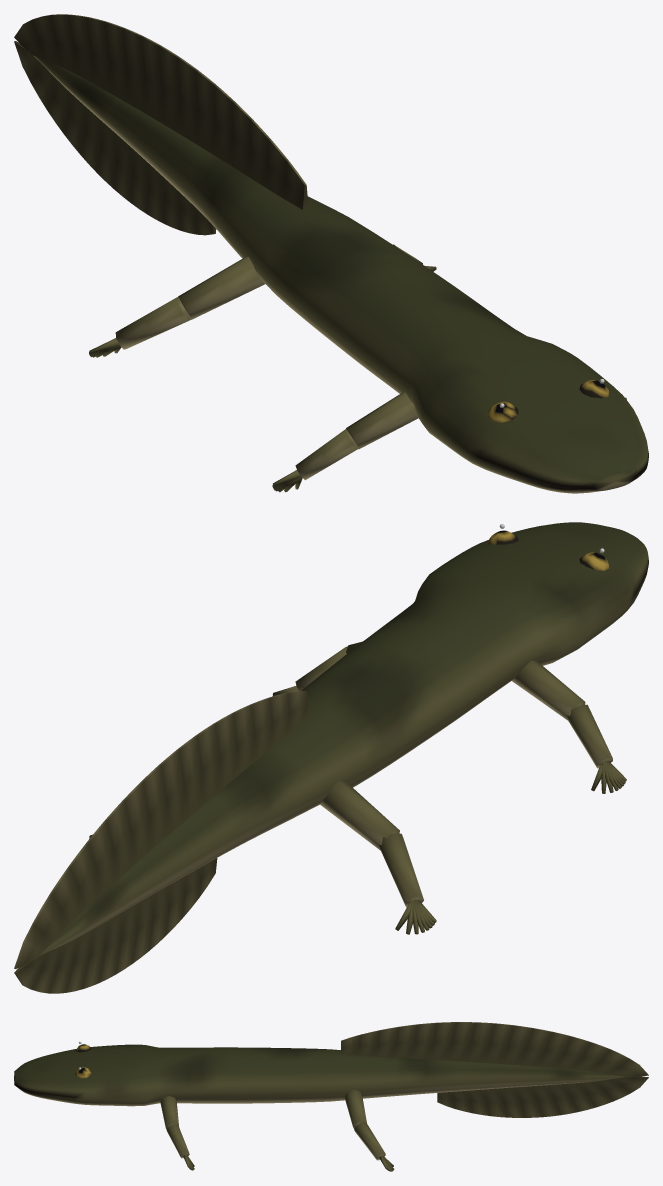
File: Acanthostega.fbx
The picture shows the model from 3 angles, top to bottom: view 1: azimuth 30°, elevation 25°; view 2: azimuth 150°, elevation 25°; view 3: azimuth 270°, elevation 25°; orthographic projection. The views are drawn at different scales.
Parts seen in each view (by area): view 1: Acanthostega; view 2: Acanthostega; view 3: Acanthostega.
Boxes of the visible parts, bbox=[...] form: Acanthostega: bbox=[14, 14, 648, 493]; Acanthostega: bbox=[14, 522, 648, 993]; Acanthostega: bbox=[14, 1022, 648, 1171].
Size of the model in its own units: 0.5612 by 0.3124 by 1.65.
